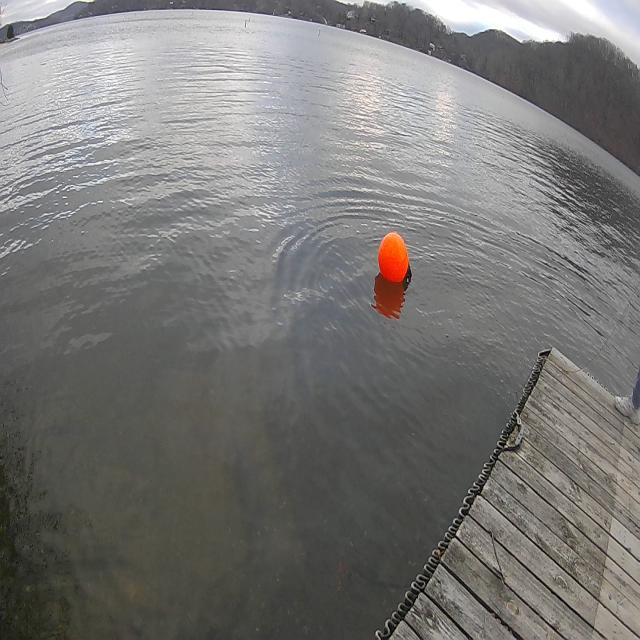Buoy: (373, 222, 416, 296)
